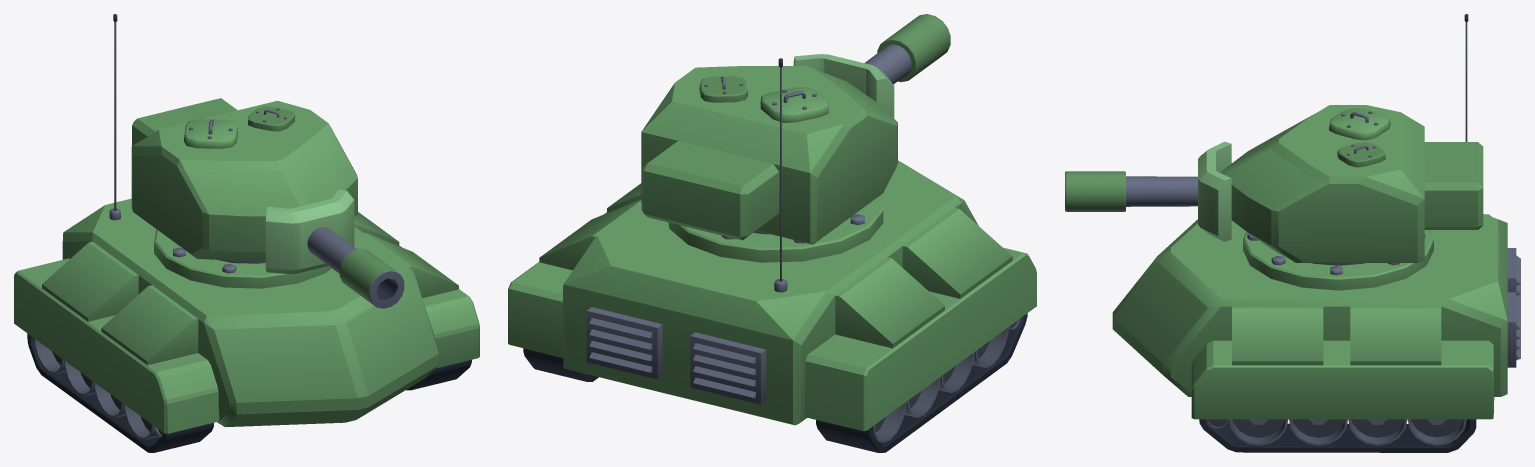
File: toon_tank.glb
3 renders of one model, left to right at view 1: azimuth 30°, elevation 25°; view 2: azimuth 150°, elevation 25°; view 3: azimuth 270°, elevation 25°, orthographic. The views are drawn at different scales.
Visible parts, largest first — view 1: Tank_Base, Tank_Tower, Tank_Barrel, Tank_Wheel_2, Tank_Wheel_3, Tank_Wheel_5, Tank_Wheel_4; view 2: Tank_Base, Tank_Tower, Tank_Barrel, Tank_Wheel_2, Tank_Wheel_4, Tank_Wheel_3, Tank_Wheel_5; view 3: Tank_Base, Tank_Tower, Tank_Barrel, Tank_Wheel_4, Tank_Wheel_3, Tank_Wheel_2, Tank_Wheel_5.
Part boxes in pixels (x1,y1,x2,y2): Tank_Base: (14,14,479,452); Tank_Tower: (131,98,357,263); Tank_Barrel: (265,189,404,308); Tank_Wheel_2: (124,404,159,440); Tank_Wheel_3: (93,382,125,417); Tank_Wheel_5: (34,338,65,374); Tank_Wheel_4: (64,360,95,396); Tank_Base: (508,58,1036,452); Tank_Tower: (641,65,897,244); Tank_Barrel: (793,14,950,118); Tank_Wheel_2: (972,327,1008,367); Tank_Wheel_4: (904,377,940,417); Tank_Wheel_3: (938,352,974,392); Tank_Wheel_5: (873,402,906,442); Tank_Base: (1112,14,1520,452); Tank_Tower: (1220,105,1483,265); Tank_Barrel: (1065,141,1231,241); Tank_Wheel_4: (1348,419,1407,445); Tank_Wheel_3: (1289,419,1347,445); Tank_Wheel_2: (1229,419,1288,445); Tank_Wheel_5: (1407,419,1466,445).
Size of the model in its own units: 3.62 by 3.66 by 4.56.
1 material, 1 textured.
